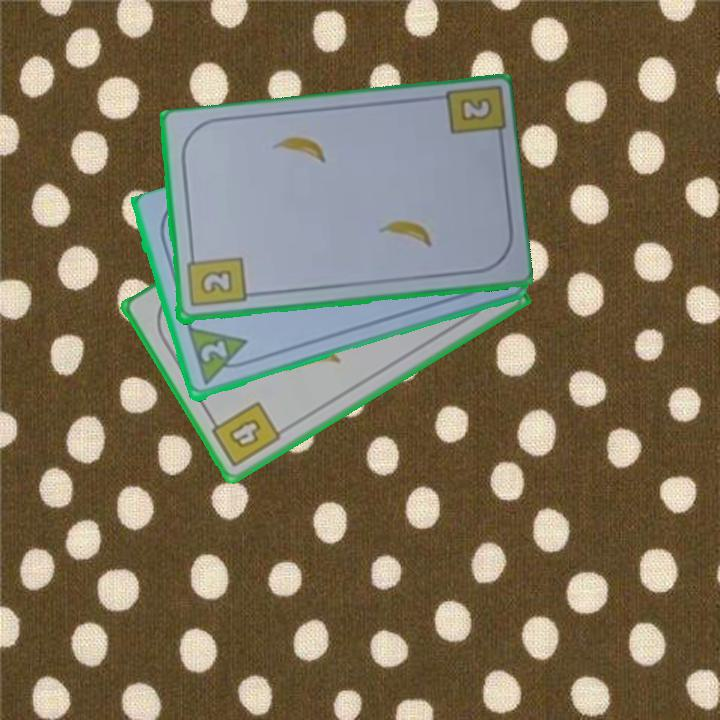2b: (183, 249, 248, 310), (459, 97, 492, 122)
2p: (196, 337, 230, 366)
4b: (204, 398, 284, 471)
